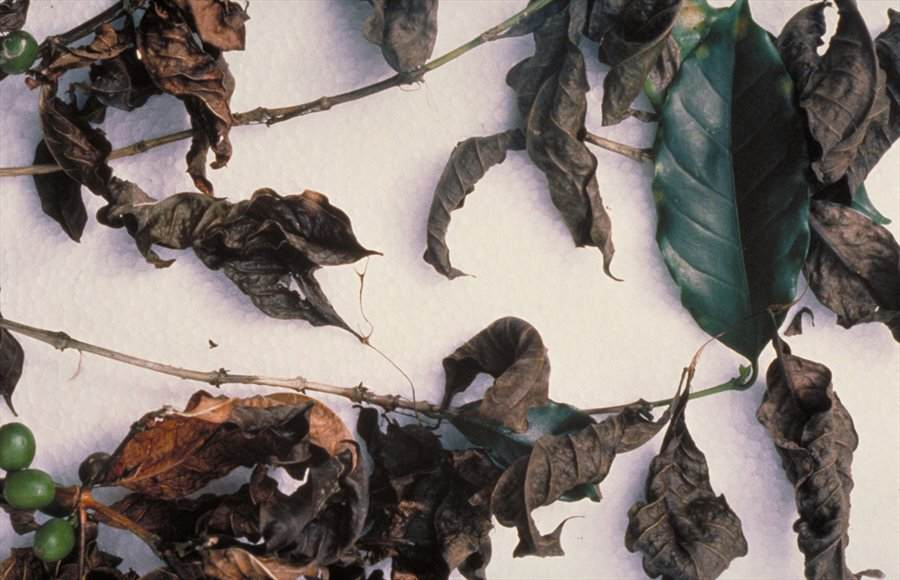mal de hilachas: (90, 362, 588, 580), (28, 1, 375, 310), (663, 314, 875, 578), (429, 3, 625, 287), (762, 9, 900, 303)
